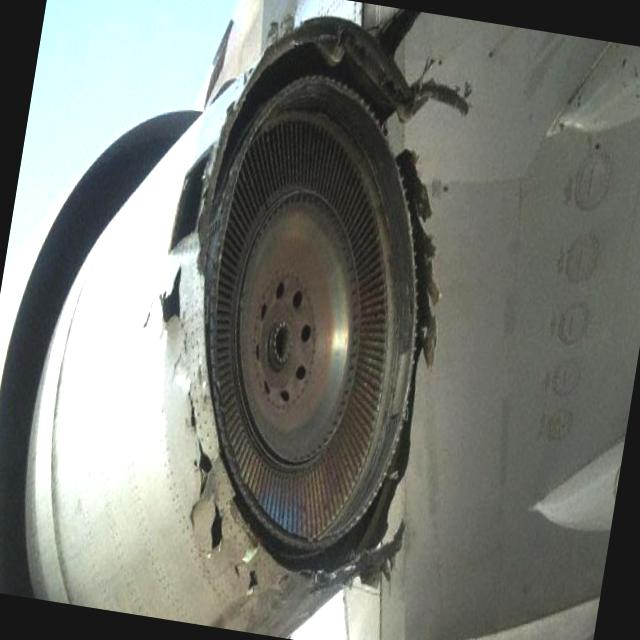crack: (117, 273, 309, 607)
